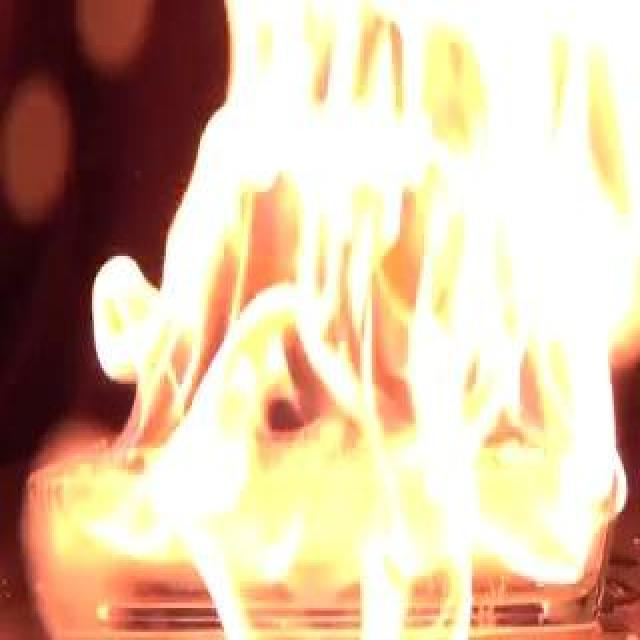Fire: (68, 3, 634, 581)
